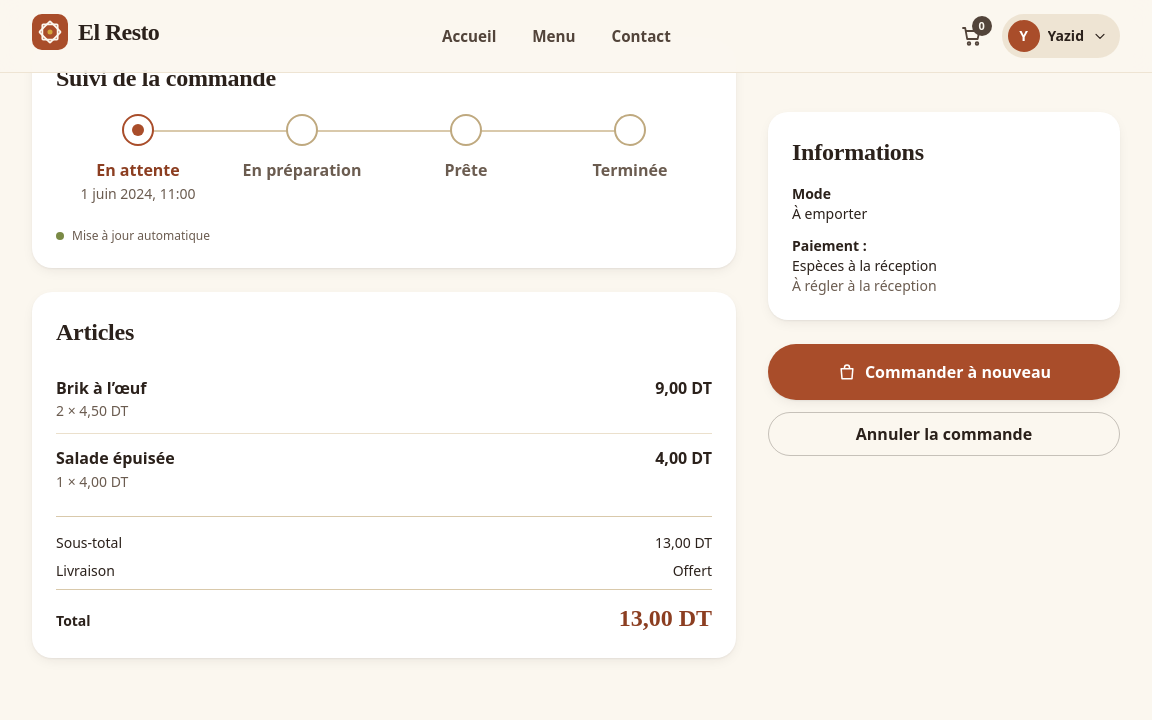
Test: /commandes/:id : détail et actions › annulation refusée (409) : message dédié et rechargement du vrai statut
(page scrolled)
Click the button "Annuler la commande": click(944, 434) [768,412,1120,456]
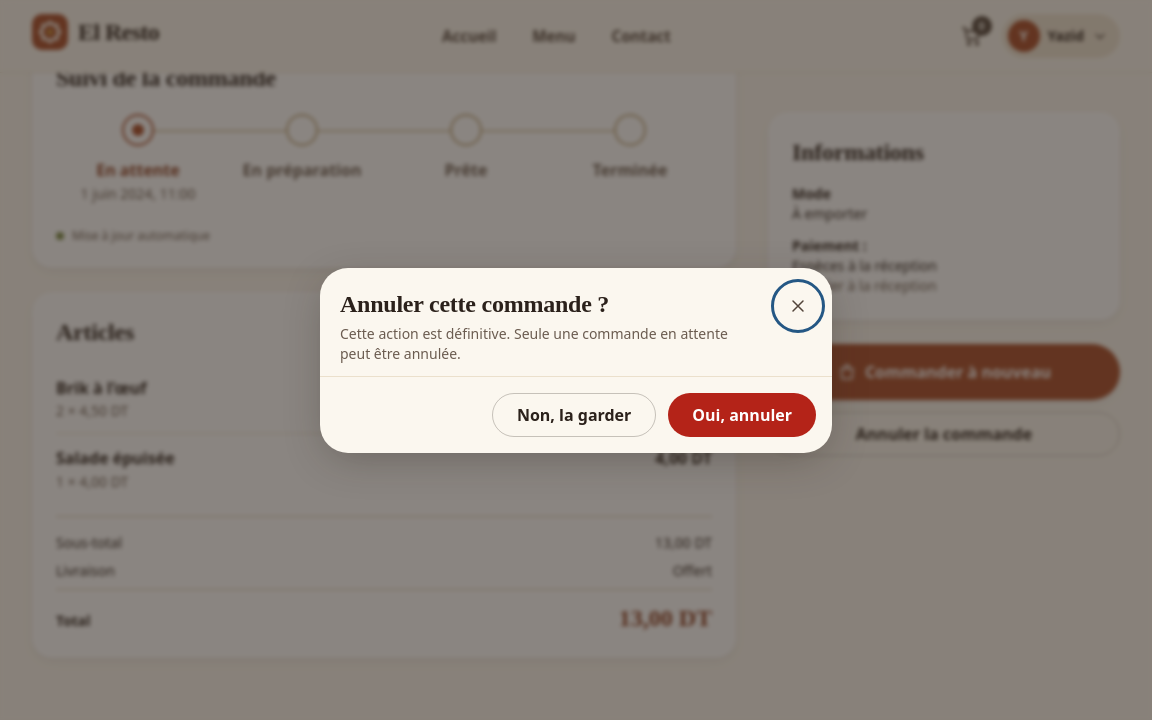
Click the button "Oui, annuler": click(742, 414) [668,392,816,436]
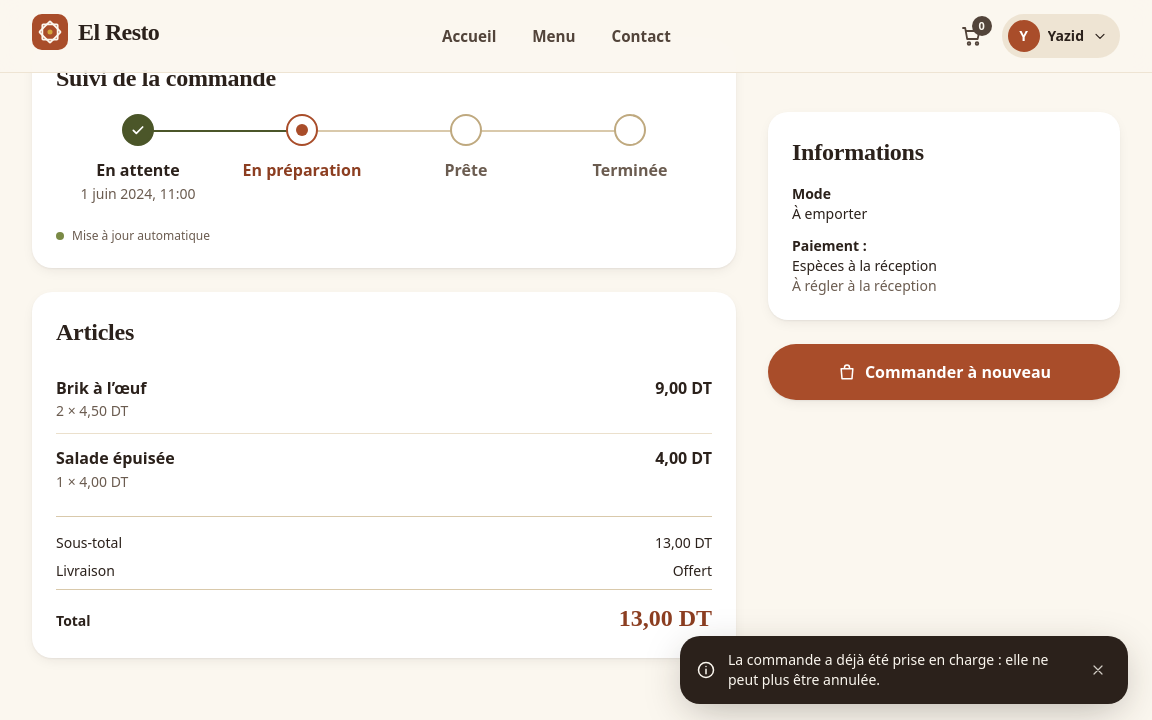
Expected: the text "déjà été prise en charge" is shown, [728,650,1048,689]
Expected: the button "Annuler la commande" is gone
